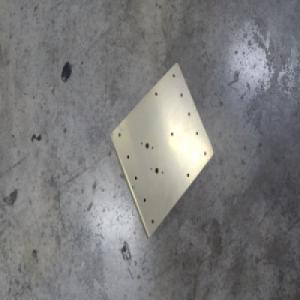MetalSheet: (107, 61, 215, 242)
